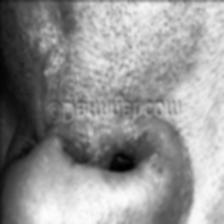Toxin: (76, 127, 164, 183)
